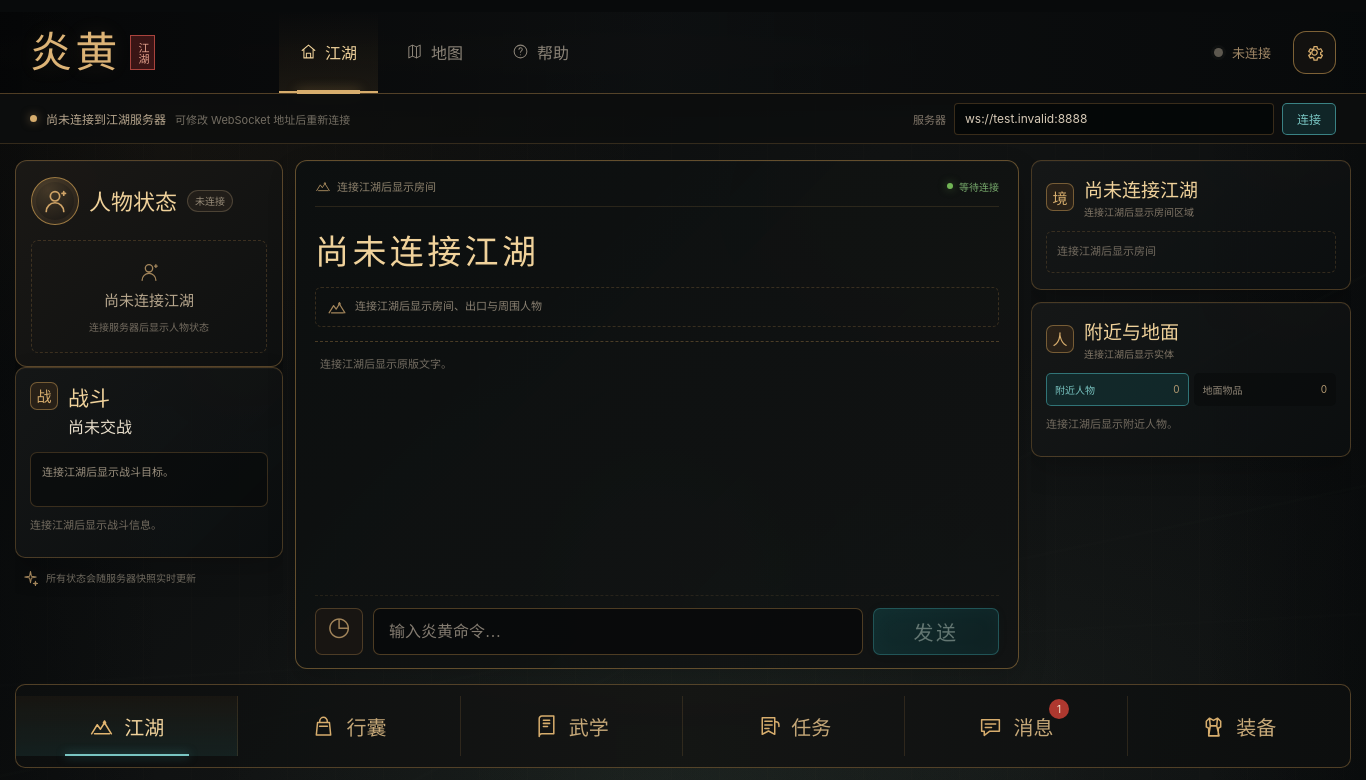
Test: App › counts only new incoming chat messages and clears the count on entry
Expected: the text with class "nav-badge" reads "1", left=1057, top=703, right=1061, bottom=715
Click the button "消息 1" at (1016,726), box left=905, top=696, right=1128, bottom=756
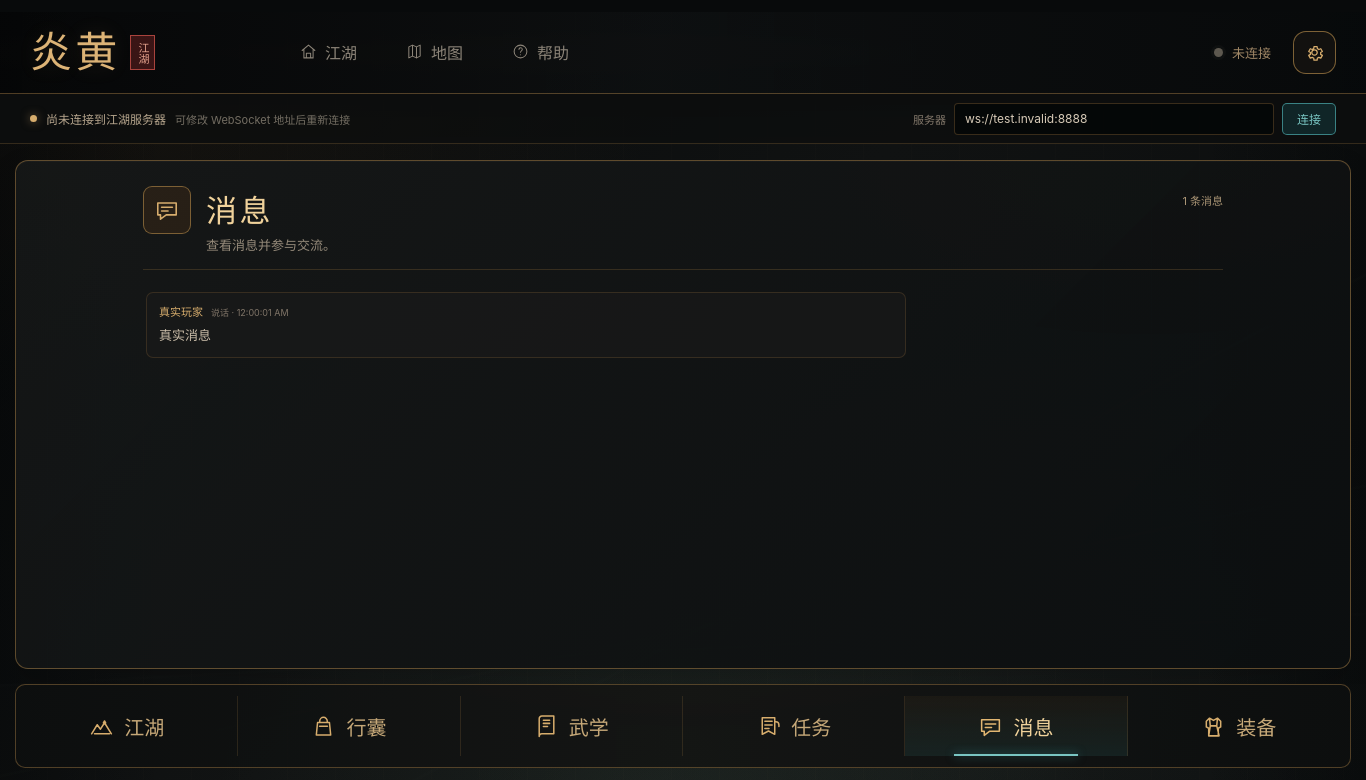
Result: the text with class "nav-badge" is gone
